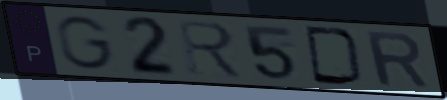2: (120, 14, 180, 78)
5: (240, 23, 302, 82)
D: (302, 24, 367, 88)
G: (53, 14, 117, 72)
R: (174, 18, 248, 81), (362, 30, 433, 90)
